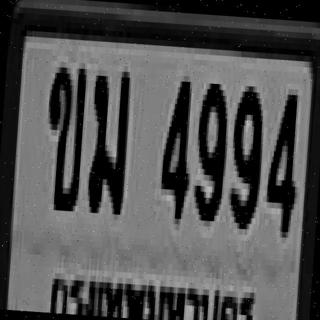A02: (40, 61, 85, 206)
A33: (85, 64, 130, 209)
N04: (262, 82, 300, 232), (157, 69, 193, 219)
N09: (226, 79, 263, 224), (190, 77, 228, 216)
